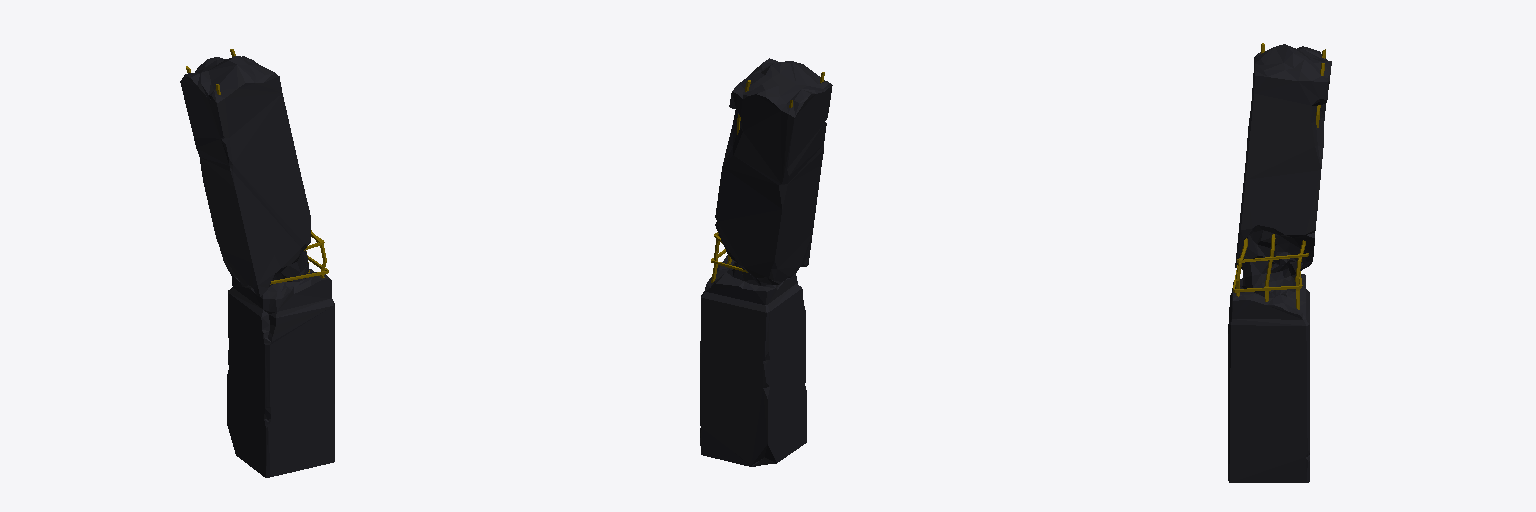
Rendered from CollapsingPillar.obj.
3 renders of one model, left to right at view 1: azimuth 30°, elevation 25°; view 2: azimuth 150°, elevation 25°; view 3: azimuth 270°, elevation 25°, orthographic.
Visible parts, largest first — view 1: CollapsingPillar.001_Untitled.002, CollapsingPillarWire.001_Untitled.003; view 2: CollapsingPillar.001_Untitled.002, CollapsingPillarWire.001_Untitled.003; view 3: CollapsingPillar.001_Untitled.002, CollapsingPillarWire.001_Untitled.003.
Part boxes in pixels (x1,y1,x2,y2): CollapsingPillar.001_Untitled.002: (180,56,334,477); CollapsingPillarWire.001_Untitled.003: (186,49,328,284); CollapsingPillar.001_Untitled.002: (700,58,832,466); CollapsingPillarWire.001_Untitled.003: (711,72,824,282); CollapsingPillar.001_Untitled.002: (1228,44,1331,482); CollapsingPillarWire.001_Untitled.003: (1233,43,1325,309).
Bounding box in the file's own units: 1.11 × 3.92 × 0.9103.